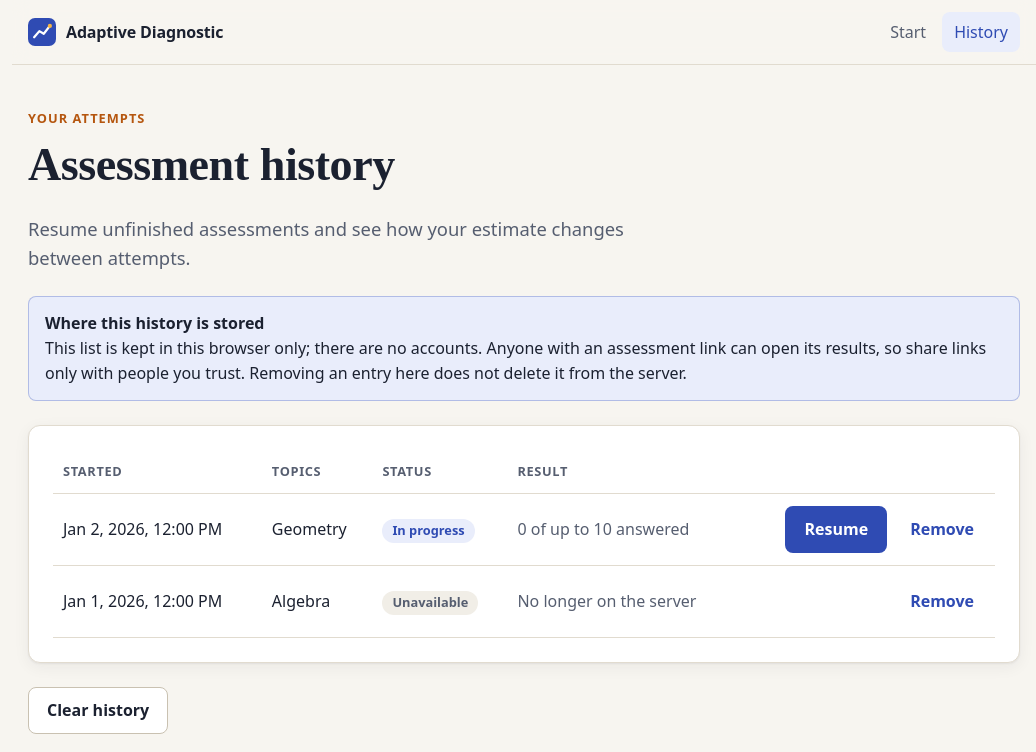
history page › marks entries missing on the server and supports removal and confirmed clearing
Expected: the text "No longer on the server" is shown, [517,590,696,612]
Click the button with aria-label "Remove assessment" at (942, 602), box [899,578,985,625]
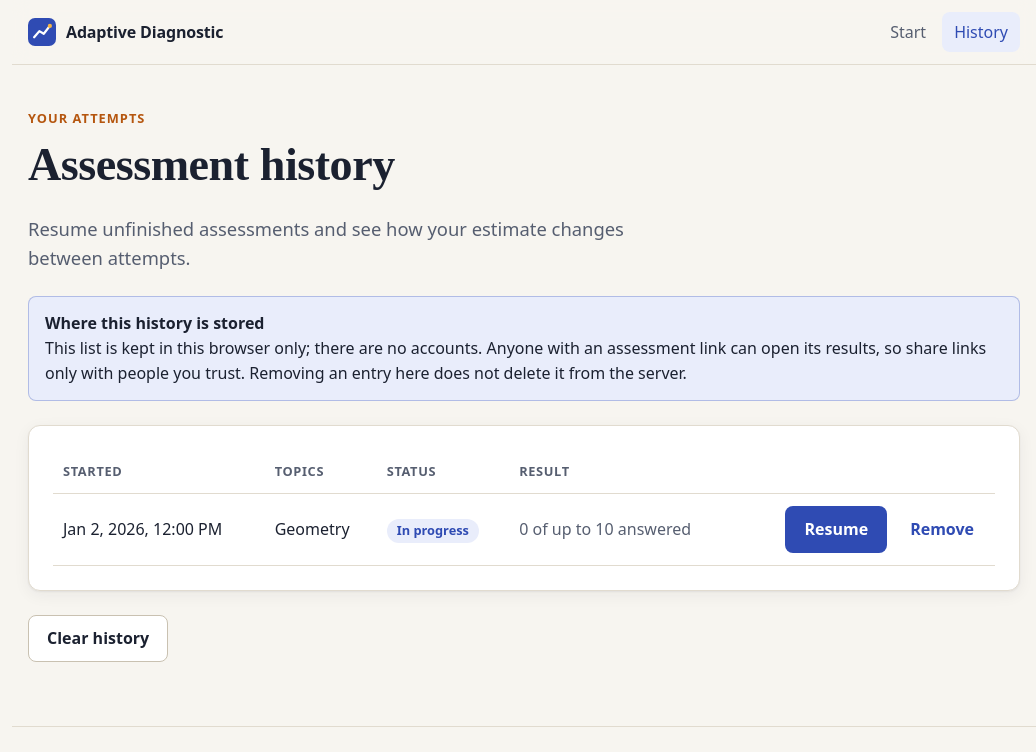
Expected: the text "No longer on the server" is gone
Click the button "Clear history" at (98, 639), box [28,615,168,662]
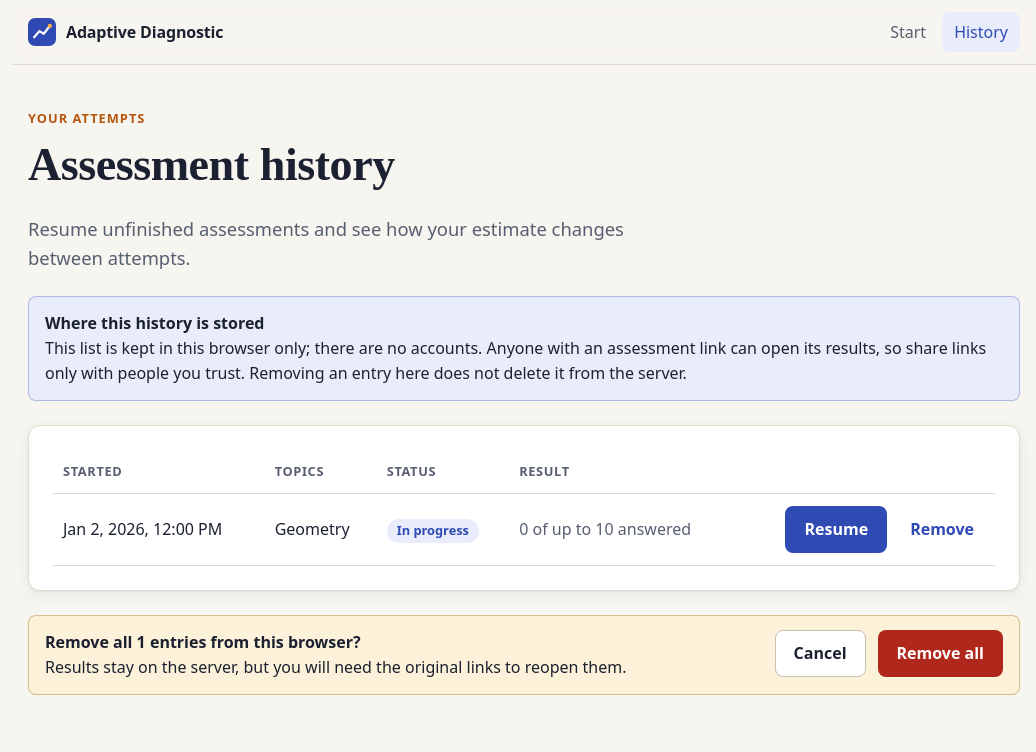
Click the button "Cancel" at (820, 654), box [775,630,866,677]
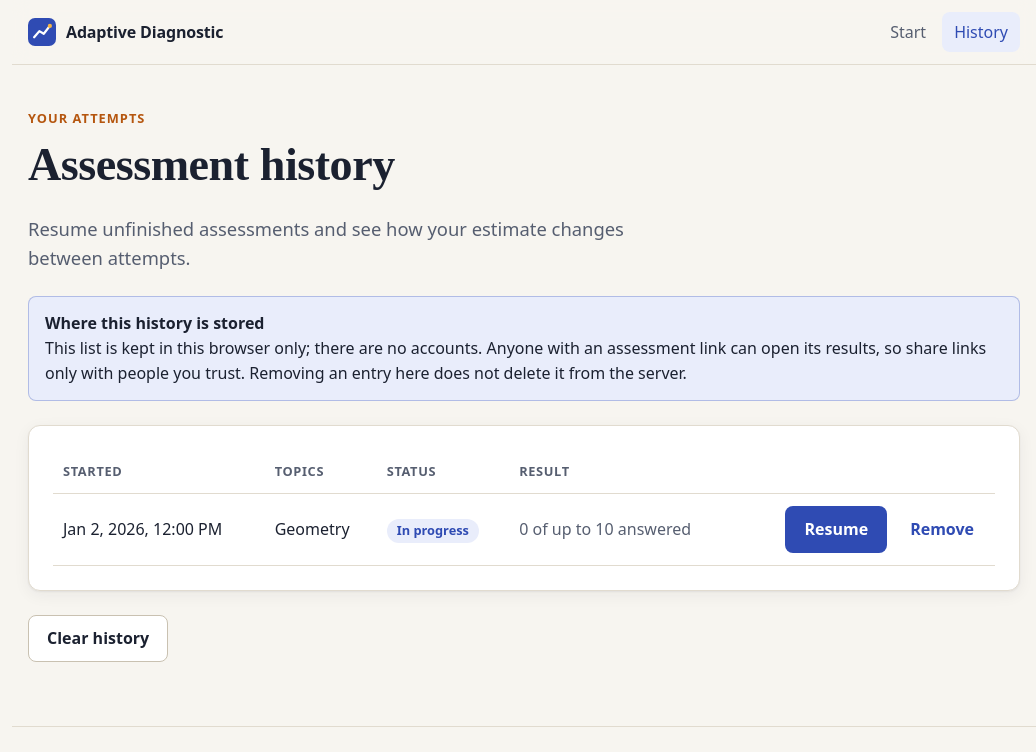
Click the button "Clear history" at (98, 639), box [28,615,168,662]
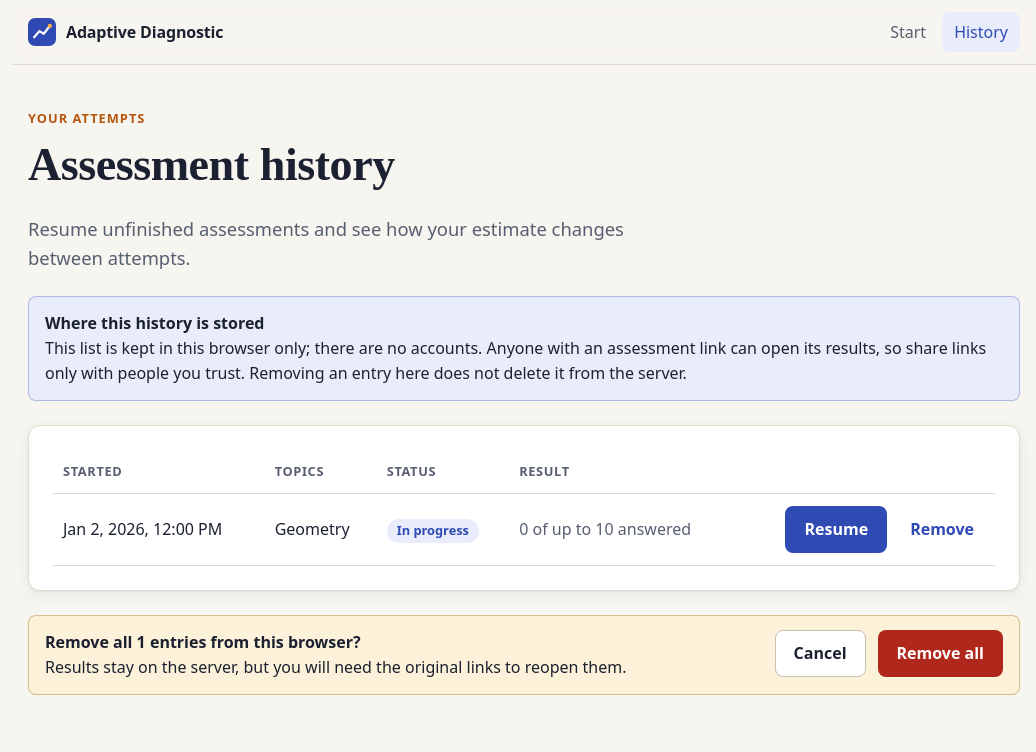
Click the button "Remove all" at (940, 654), box [878,630,1003,677]
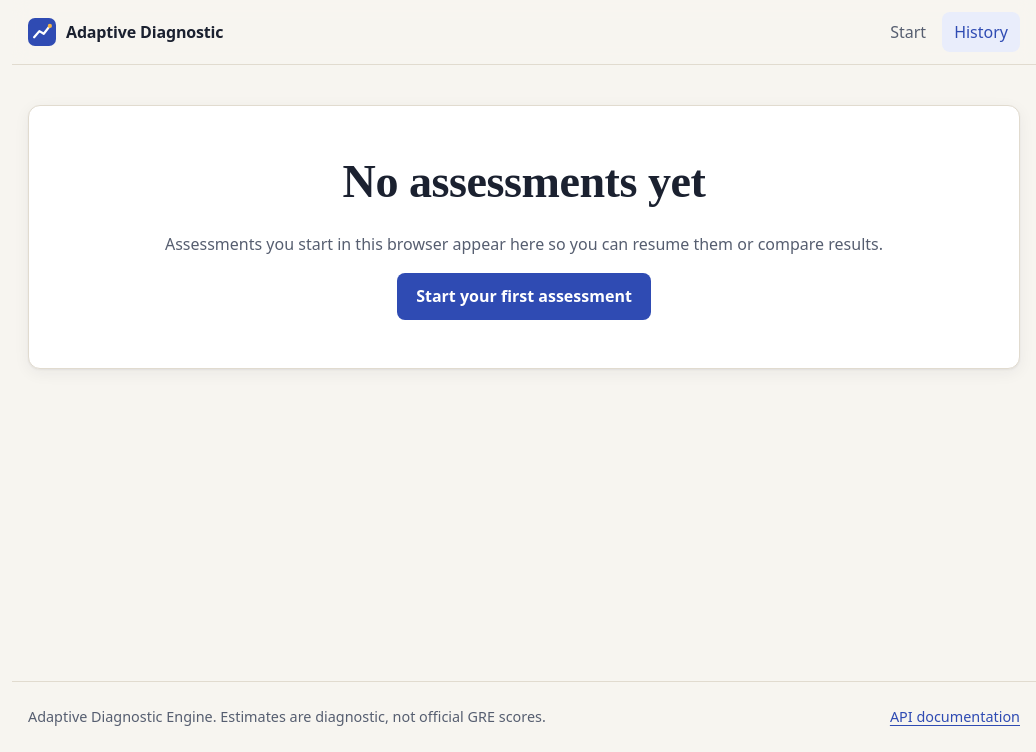
Expected: the heading "No assessments yet" is shown, [343,156,706,207]
